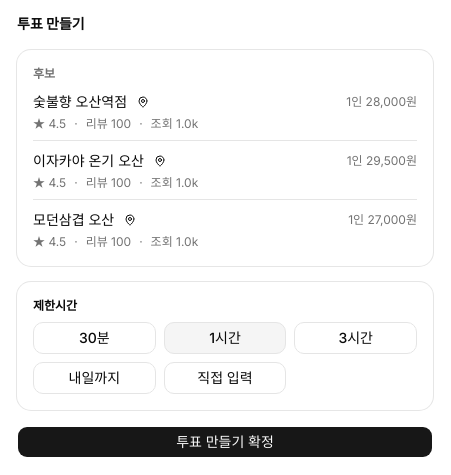
Test: CreateVoteForm › 제한시간 선택 후 확정하면 POST /api/votes가 호출되고 공유 링크가 표시된다
Click the radio button labelled "1시간".
click(225, 338)  # box x1=164 y1=322 x2=286 y2=354
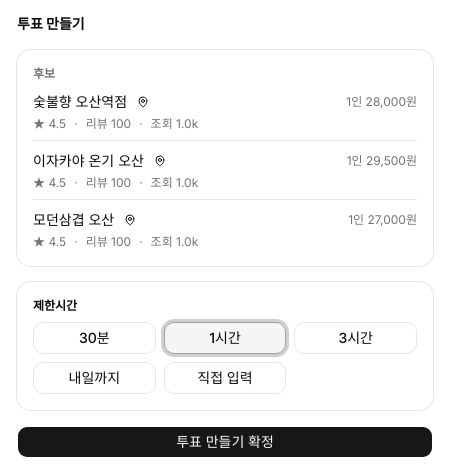
Click the button "투표 만들기 확정".
click(225, 442)  # box x1=17 y1=426 x2=433 y2=458
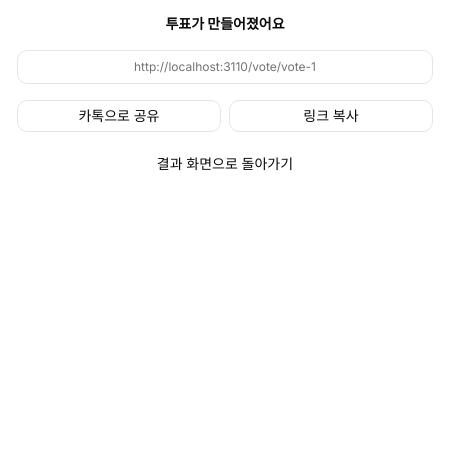
Expected: the text "http://localhost:3110/vote/vote-1" is shown, x1=17 y1=50 x2=433 y2=84
